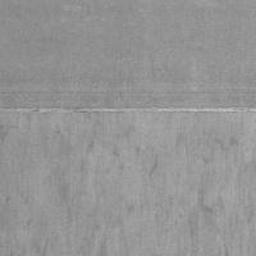Welding line: (0, 106, 256, 115)
